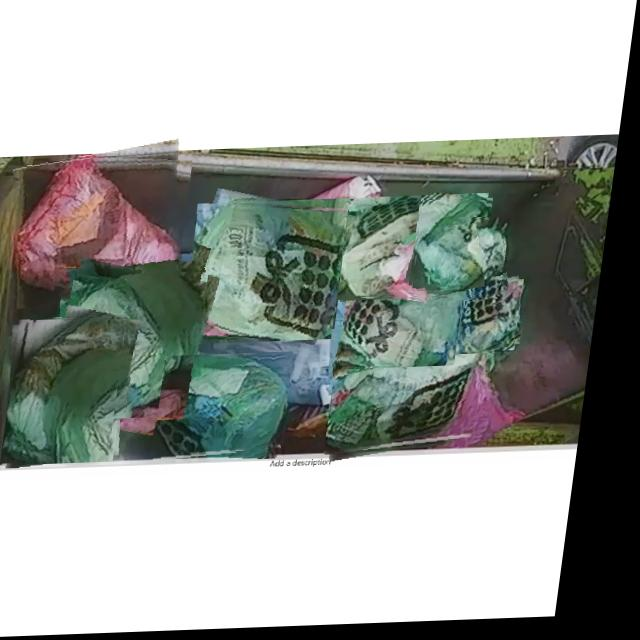general_trashbag: (60, 272, 213, 421), (196, 205, 352, 342), (340, 340, 501, 456), (21, 319, 134, 464), (169, 358, 299, 456), (350, 199, 439, 301), (352, 300, 470, 371), (425, 203, 497, 293), (456, 223, 513, 305), (463, 288, 528, 358)
other_trashbag: (23, 159, 187, 297)
